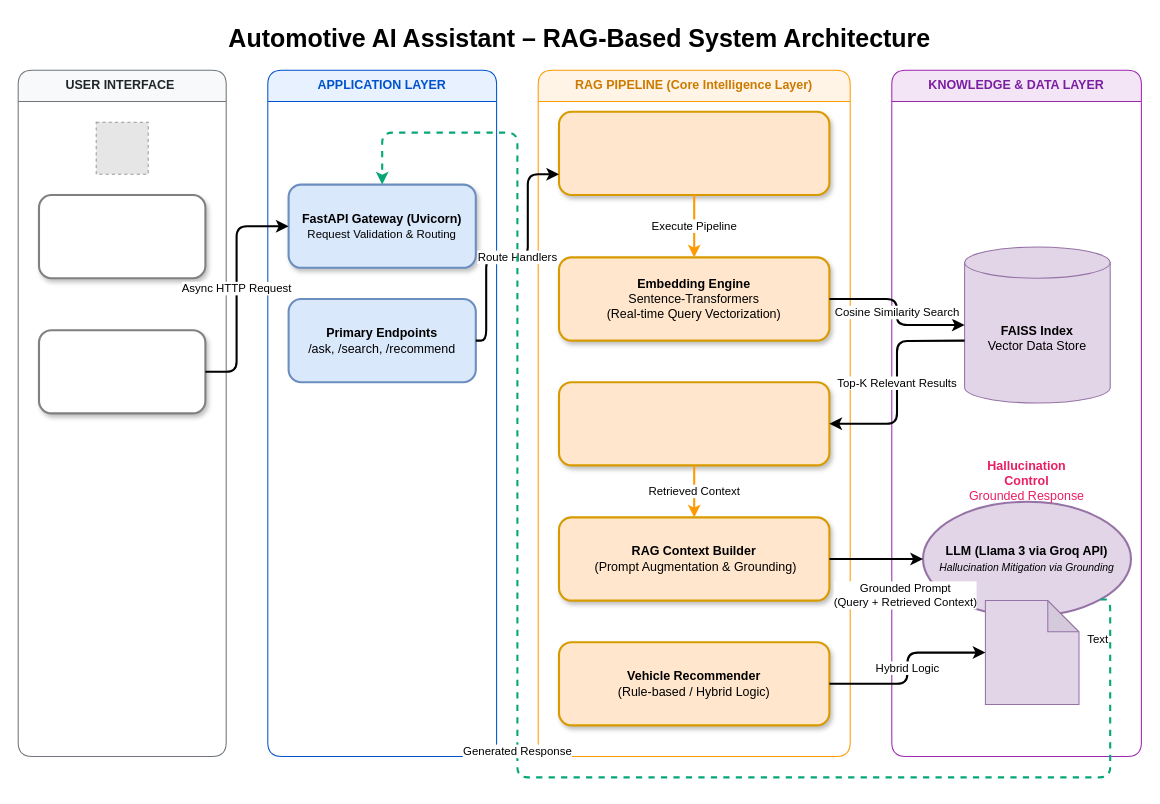
This 1160x804 diagram has some shape labels left out. Grey dashed boxes stand in for pictures. Each missing label, with the centre of its shape:
API Client Async Event Handlers: the point at 122,372
Context Builder (Prompt Augmentation & Grounding): the point at 1031,652
Intent Classifier Query Routing: QA | Search | Recommendation: the point at 694,154
Modern Web UI Industrial Ford Theme: the point at 122,237
Retriever (Top-K Semantic Search): the point at 694,424
